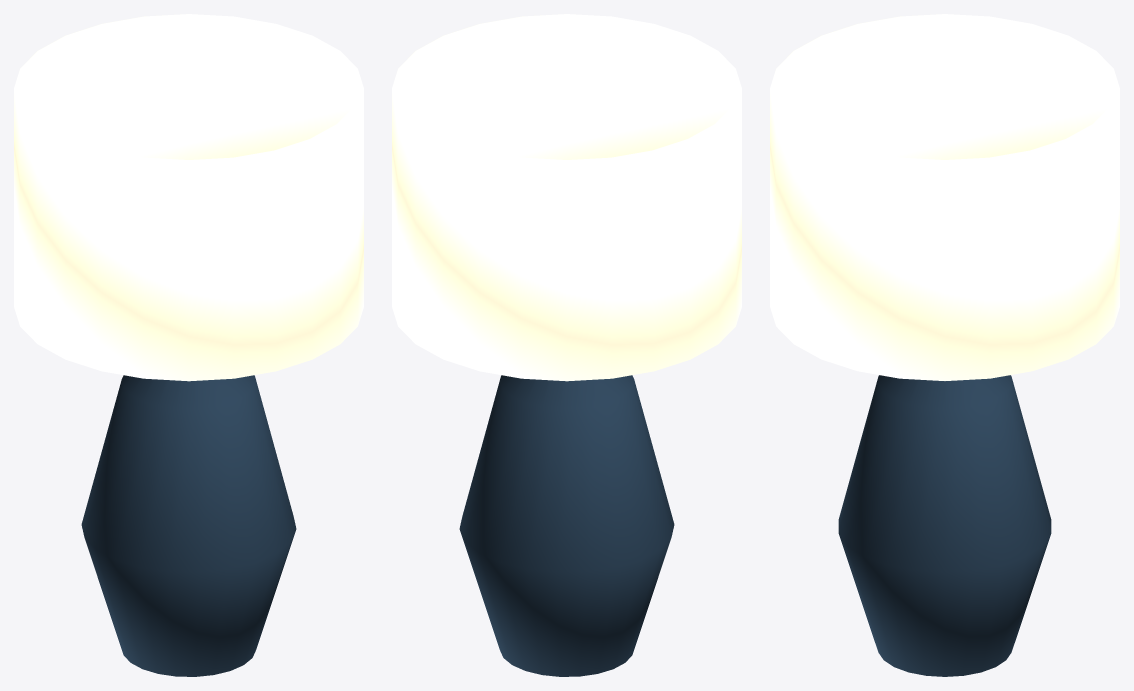
The model's file is i_tlamp_2.glb.
The picture shows the model from 3 angles, left to right: view 1: azimuth 30°, elevation 25°; view 2: azimuth 150°, elevation 25°; view 3: azimuth 270°, elevation 25°; orthographic projection.
Parts seen in each view (by area): view 1: o.001, o; view 2: o.001, o; view 3: o.001, o.
Part boxes in pixels (box(x1,y1,x2,y2)): o.001: box(14, 14, 363, 381); o: box(81, 375, 296, 676); o.001: box(392, 14, 741, 381); o: box(459, 375, 674, 676); o.001: box(770, 14, 1119, 380); o: box(838, 375, 1051, 676).
Bounding box in the file's own units: 0.26 × 0.46 × 0.26.
